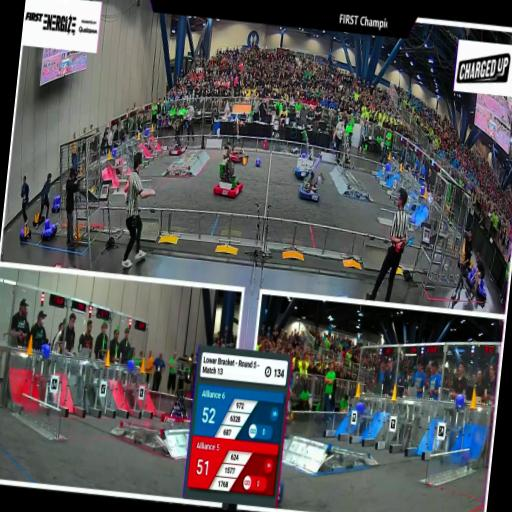robot: (159, 354, 197, 425), (214, 145, 248, 201), (225, 114, 254, 166), (293, 144, 325, 182), (298, 166, 326, 206), (165, 117, 189, 157), (335, 133, 356, 173), (276, 482, 286, 502)
